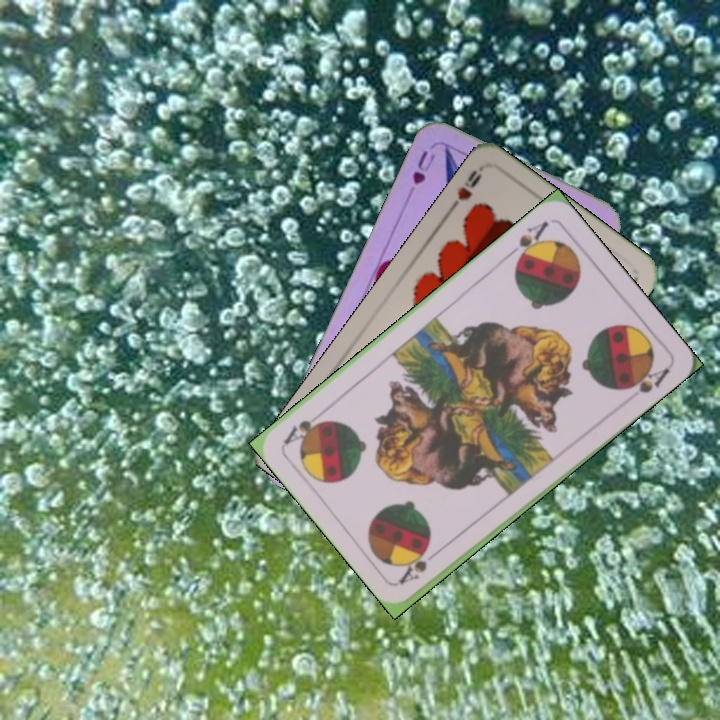H9: (444, 166, 485, 215)
HU: (408, 146, 438, 187)
SA: (503, 216, 552, 267), (395, 543, 445, 587)
